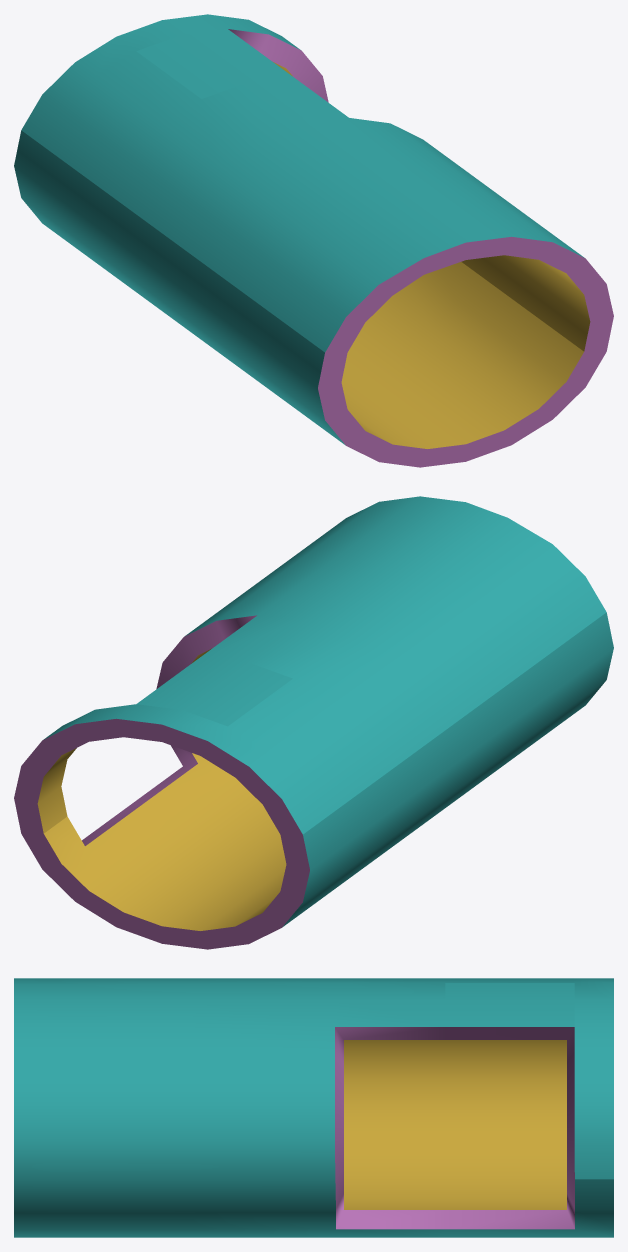
The model's file is Arbol_hoyos2.fbx.
The picture shows the model from 3 angles, top to bottom: view 1: azimuth 30°, elevation 25°; view 2: azimuth 150°, elevation 25°; view 3: azimuth 270°, elevation 25°; orthographic projection.
Parts seen in each view (by area): view 1: Resbaladilla_8; view 2: Resbaladilla_8; view 3: Resbaladilla_8.
Part boxes in pixels (x1,y1,x2,y2): Resbaladilla_8: (14,14,613,467); Resbaladilla_8: (14,496,613,949); Resbaladilla_8: (14,978,613,1237).
Bounding box in the file's own units: 34.05 × 24.09 × 60.51.
